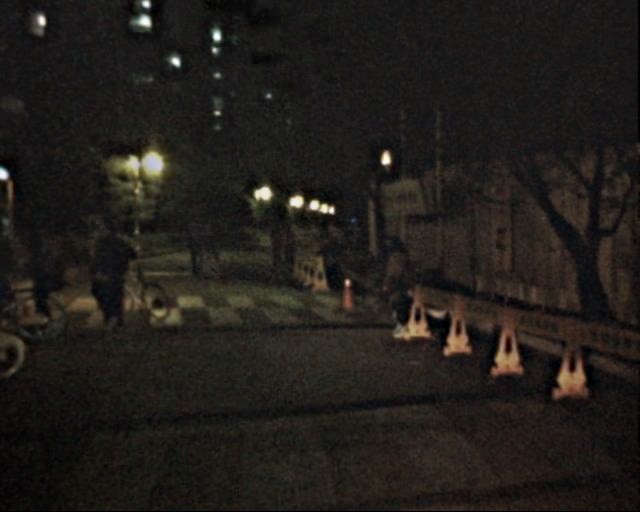person: (376, 236, 419, 340), (96, 223, 137, 324), (28, 224, 68, 321), (2, 218, 32, 332), (82, 216, 117, 302), (180, 215, 206, 279), (197, 217, 222, 278), (264, 224, 282, 269), (277, 223, 295, 266)
